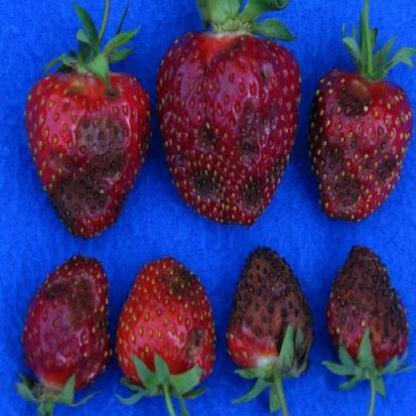Strawberry_Anthracnose_Fruit_Rot: (156, 32, 300, 226), (44, 77, 152, 241), (308, 74, 402, 222), (228, 244, 314, 355), (325, 243, 409, 355), (152, 256, 214, 366), (37, 270, 100, 335)
